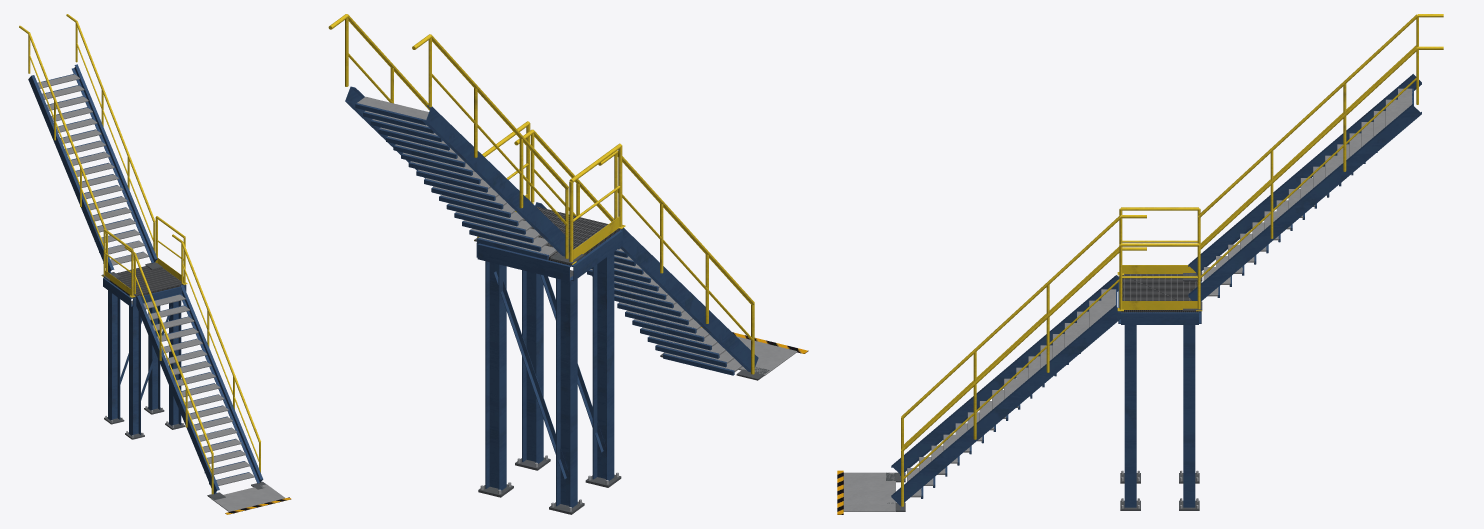
File: stairs_eaf.glb
3 renders of one model, left to right at view 1: azimuth 30°, elevation 25°; view 2: azimuth 150°, elevation 25°; view 3: azimuth 270°, elevation 25°, orthographic. The views are drawn at different scales.
Parts seen in each view (by area): view 1: Stairs_EAF_geo; view 2: Stairs_EAF_geo; view 3: Stairs_EAF_geo.
Part boxes in pixels (x1=…): Stairs_EAF_geo: x1=19, y1=14, x2=291, y2=514; Stairs_EAF_geo: x1=328, y1=14, x2=808, y2=514; Stairs_EAF_geo: x1=837, y1=14, x2=1443, y2=514.
Bounding box in the file's own units: 1.6 × 7.83 × 9.7.
Materials: 8 (7 with a texture image).
